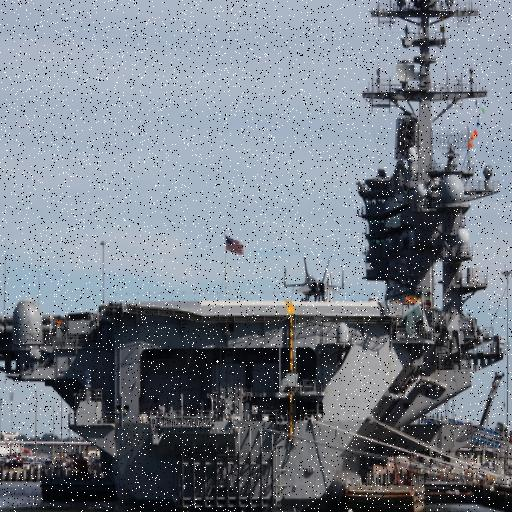Portanaves: (1, 1, 500, 512)
